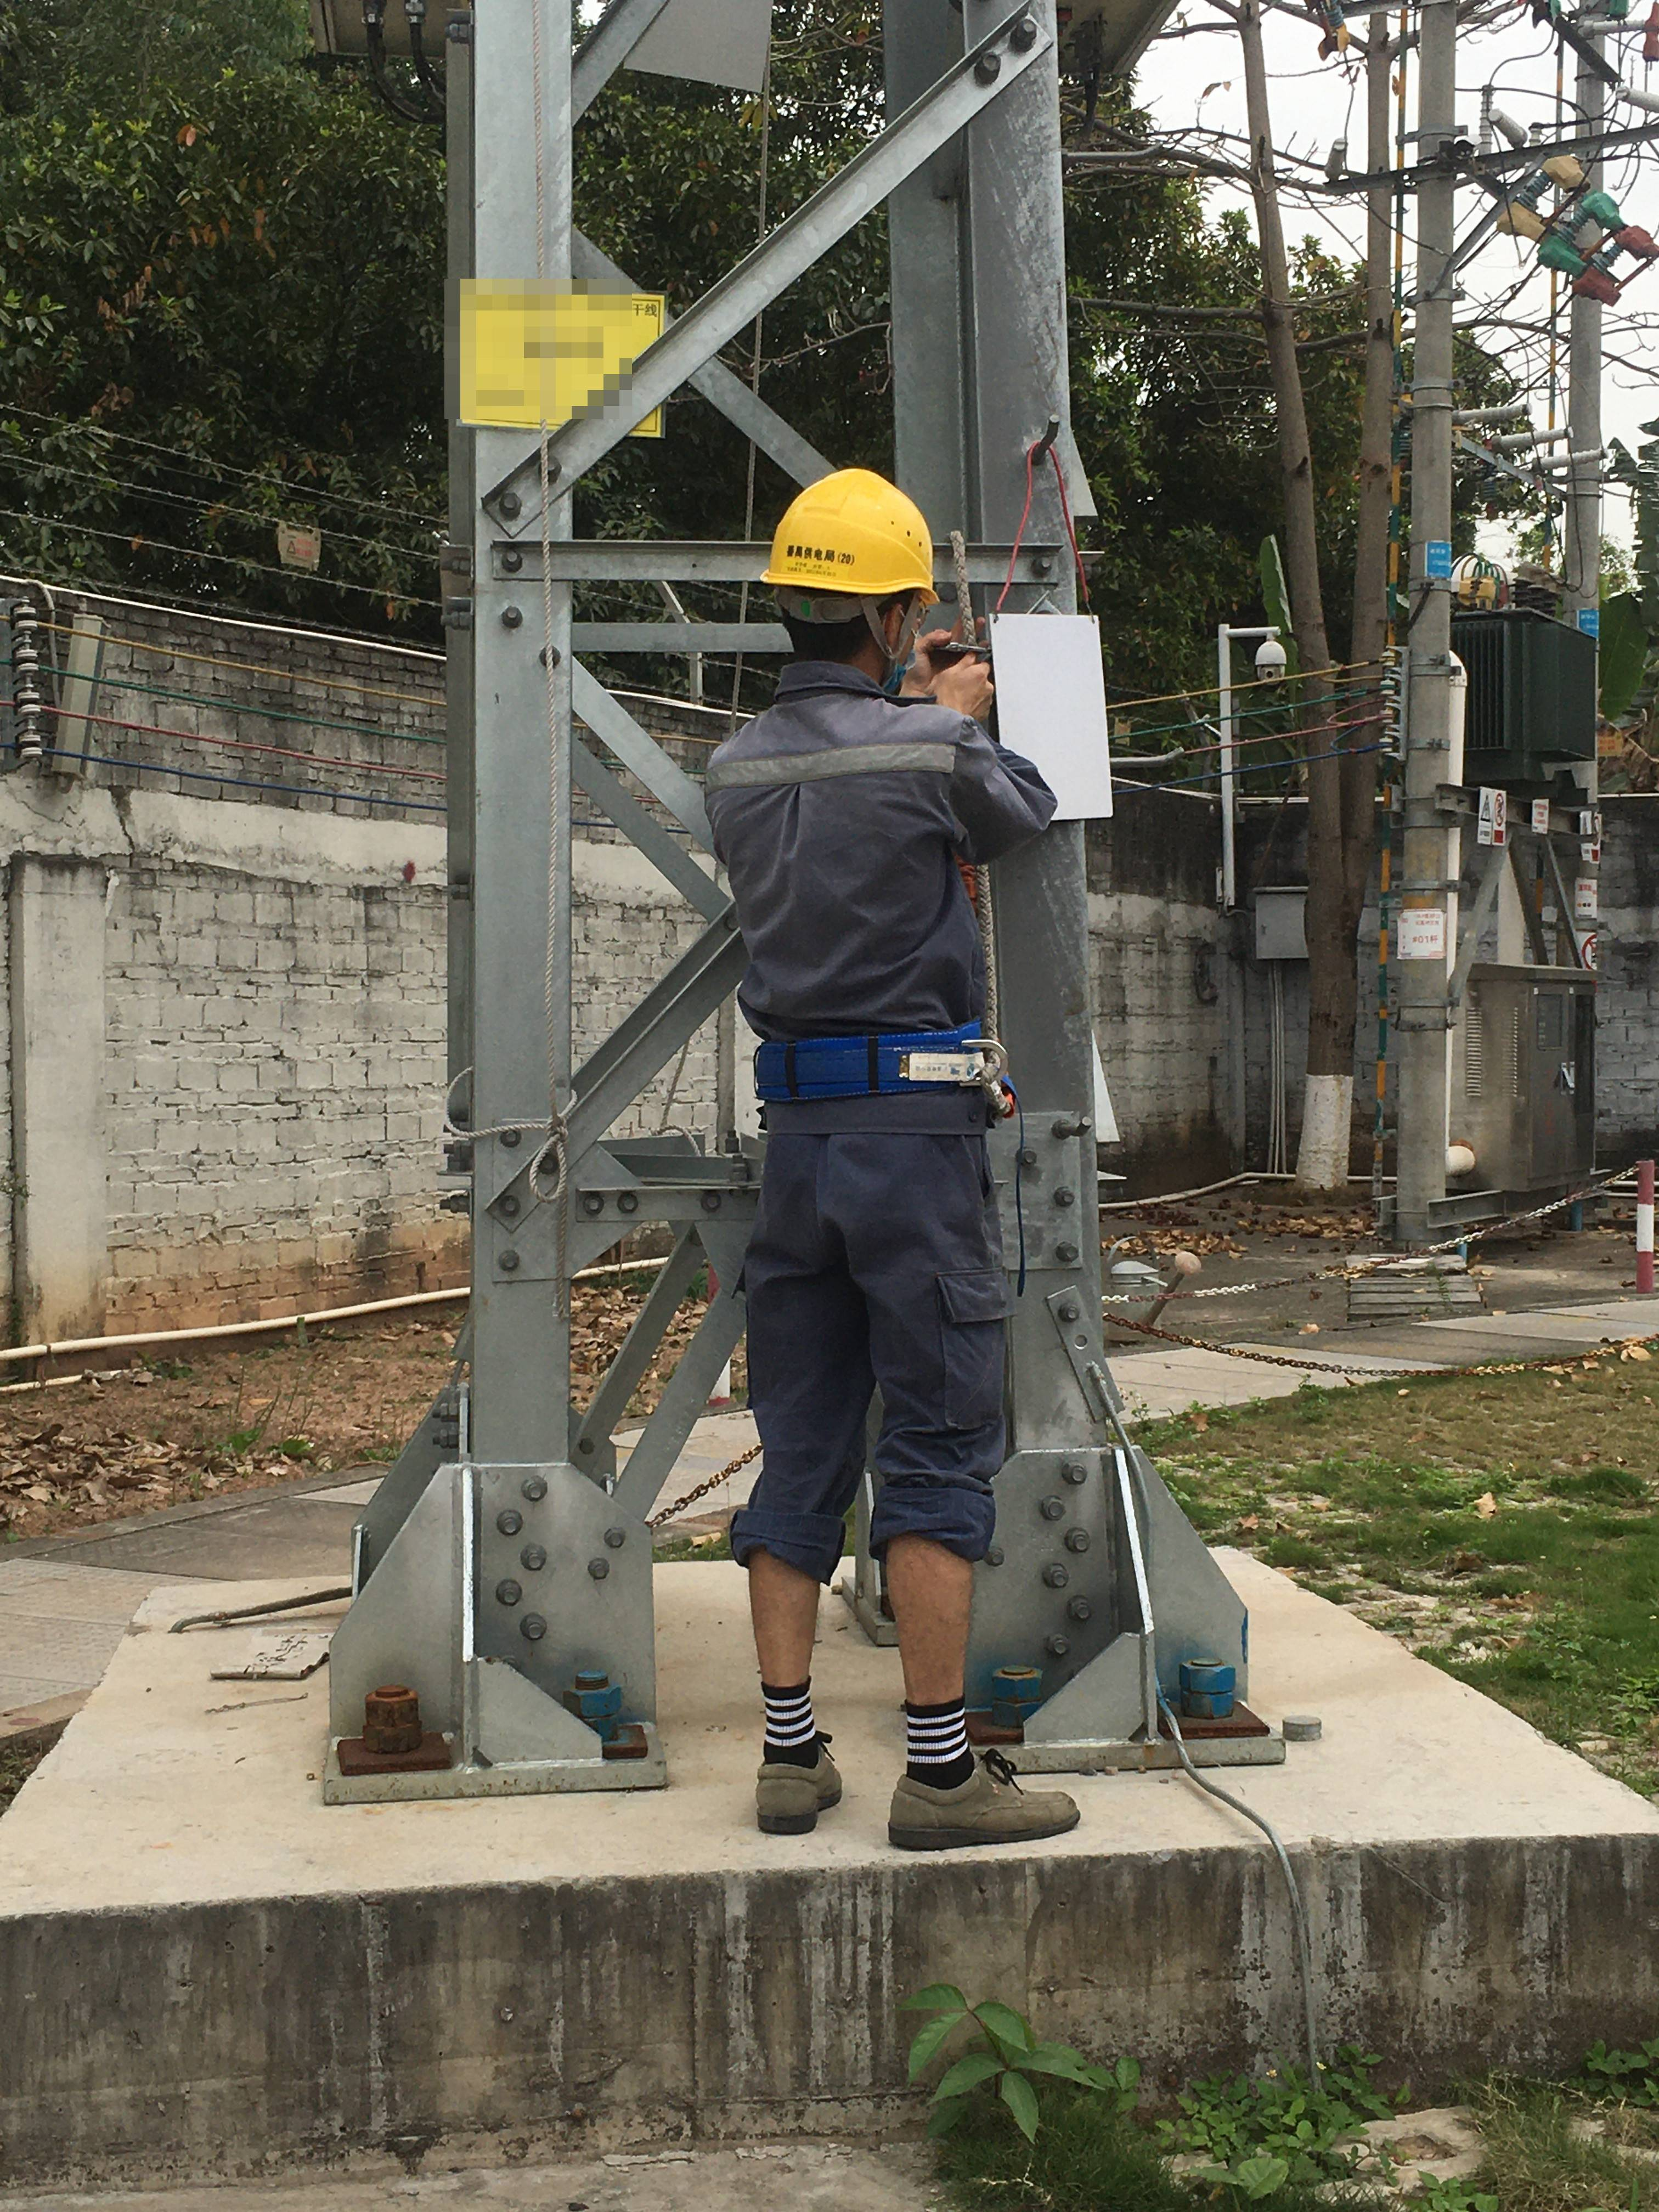downsuit: (730, 1127, 1012, 1561)
upsuit: (702, 660, 1061, 1080)
wrongbottom: (728, 1507, 986, 1728)
